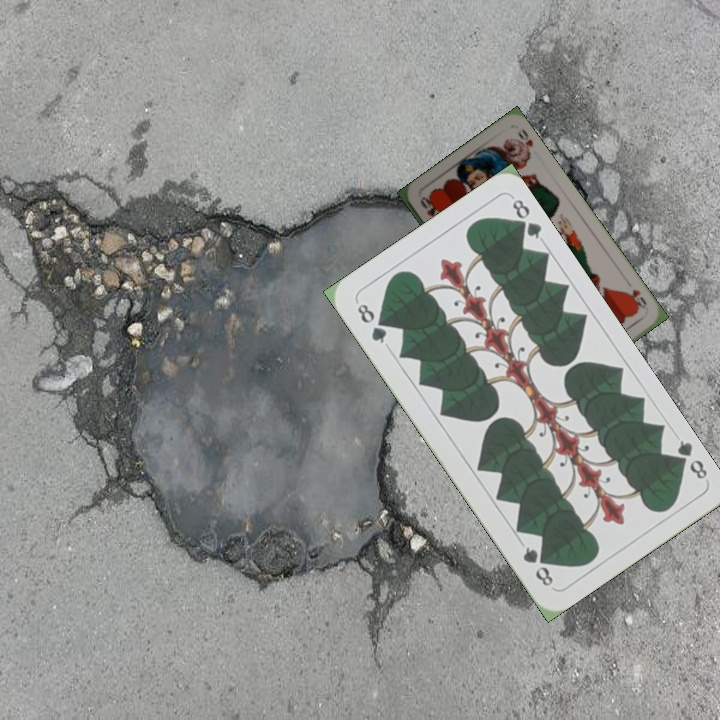G8: (668, 435, 710, 482), (353, 299, 390, 347)
HO: (621, 285, 649, 312), (416, 193, 438, 219)
